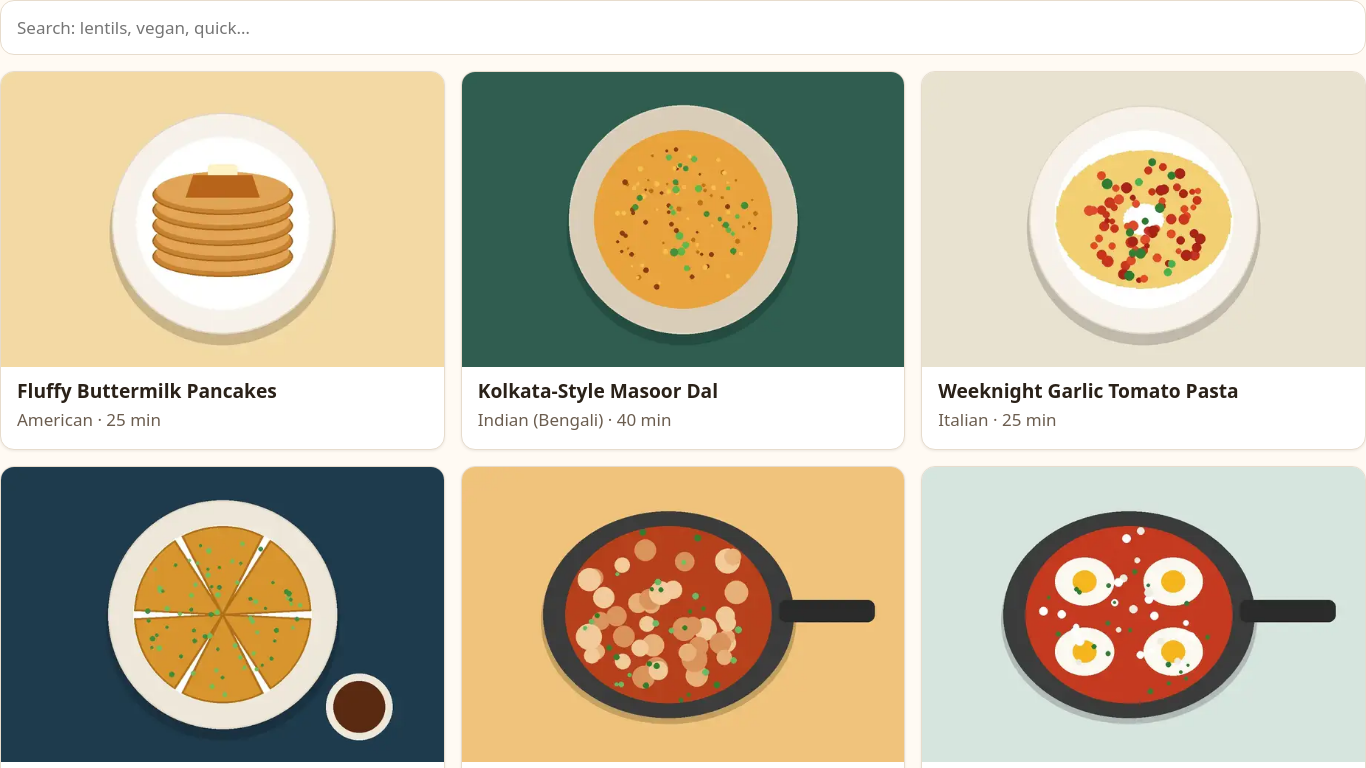
RecipeSearch › filters the cards as you type and handles no results
This screenshot has width=1366, height=768.
Type "eggs" into the search field named "Search recipes" at (683, 27), box x1=0 y1=0 x2=1365 y2=55
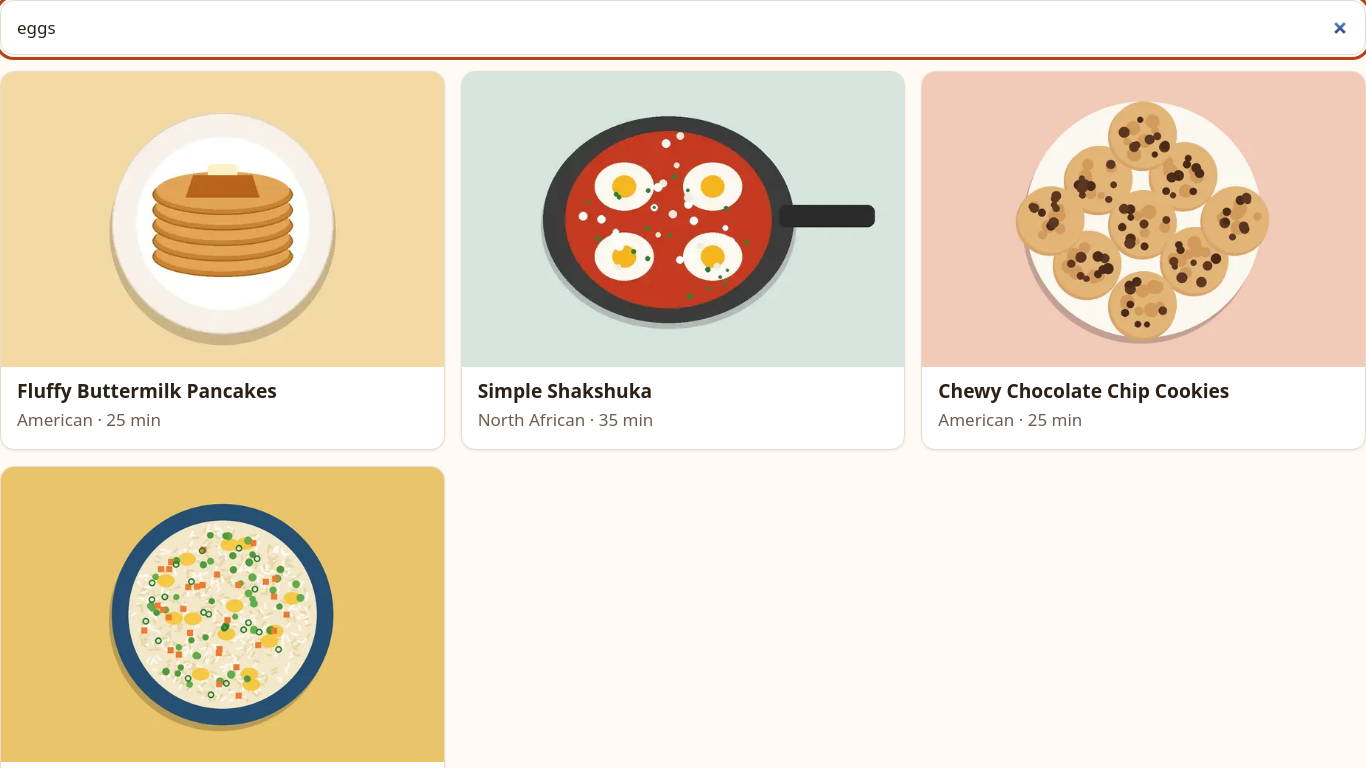
Replace the text in the search field with "durian" at (683, 27), box x1=0 y1=0 x2=1365 y2=55
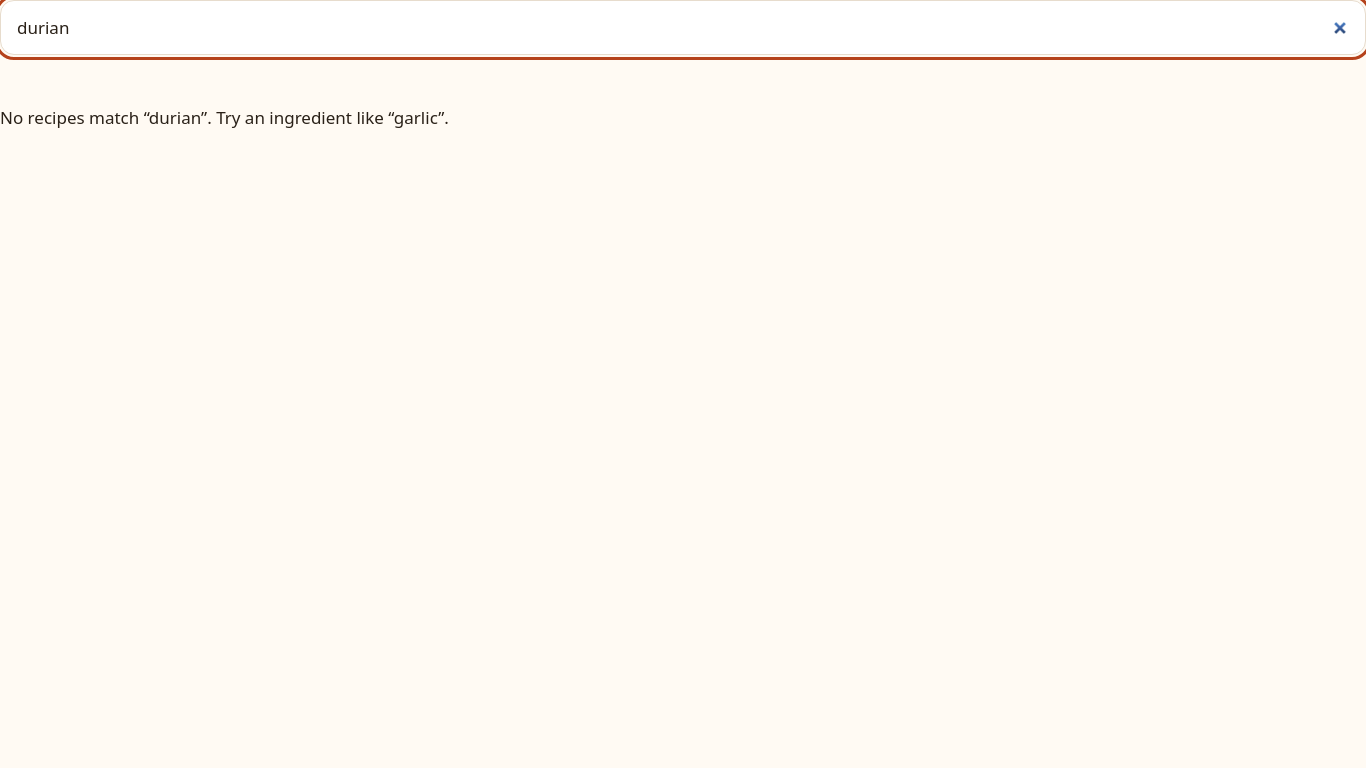
Now the text "No recipes match “durian”. Try an ingredient like “garlic”." is shown, box x1=0 y1=106 x2=149 y2=129
